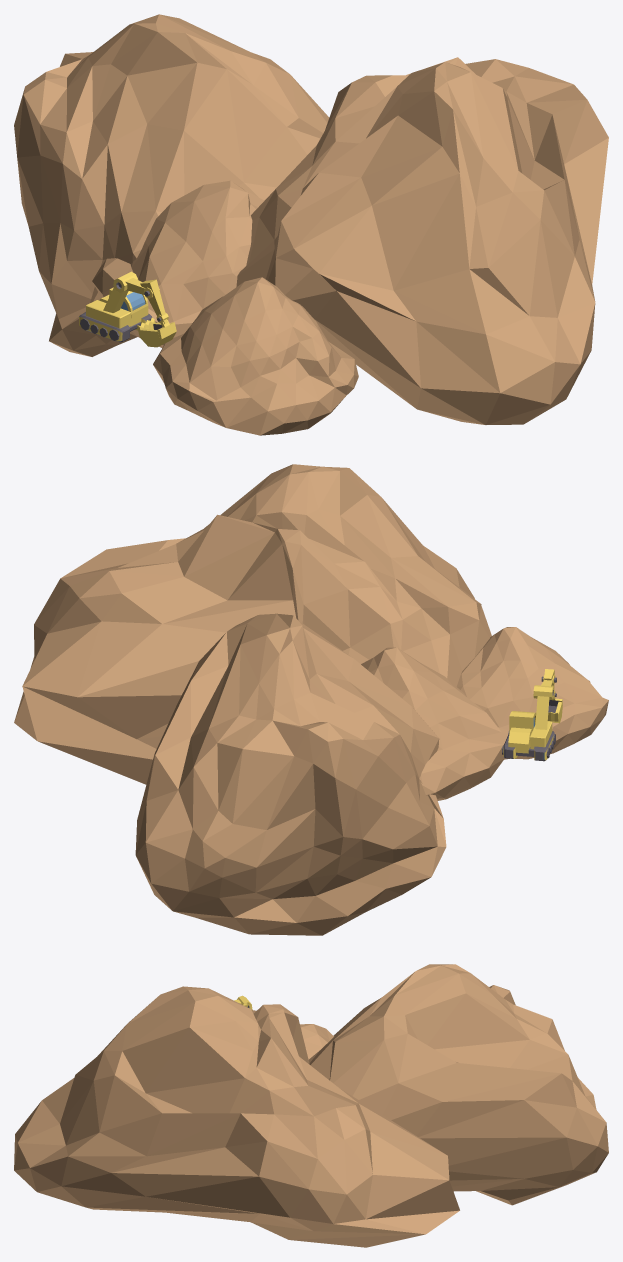
Rendered from Tractor__Sand.fbx.
The picture shows the model from 3 angles, top to bottom: view 1: azimuth 30°, elevation 25°; view 2: azimuth 150°, elevation 25°; view 3: azimuth 270°, elevation 25°; orthographic projection. The views are drawn at different scales.
Parts seen in each view (by area): view 1: Icosphere.003, Icosphere.002, Icosphere, Icosphere.001, Cube.005; view 2: Icosphere.002, Icosphere.003, Icosphere.001, Icosphere, Cube.005; view 3: Icosphere.003, Icosphere.002, Icosphere.001.
Boxes of the visible parts, box(x1,y1,x2,y2) form: Icosphere.003: box(236, 57, 608, 424); Icosphere.002: box(14, 14, 329, 356); Icosphere: box(153, 277, 358, 435); Icosphere.001: box(92, 180, 263, 347); Cube.005: box(79, 271, 176, 347); Icosphere.002: box(135, 613, 446, 935); Icosphere.003: box(14, 464, 491, 784); Icosphere.001: box(361, 647, 507, 800); Icosphere: box(456, 627, 608, 759); Cube.005: box(502, 669, 562, 761); Icosphere.003: box(14, 986, 459, 1247); Icosphere.002: box(308, 964, 608, 1205); Icosphere.001: box(300, 1024, 333, 1059).
Size of the model in its own units: 2855 by 1775 by 3541.
